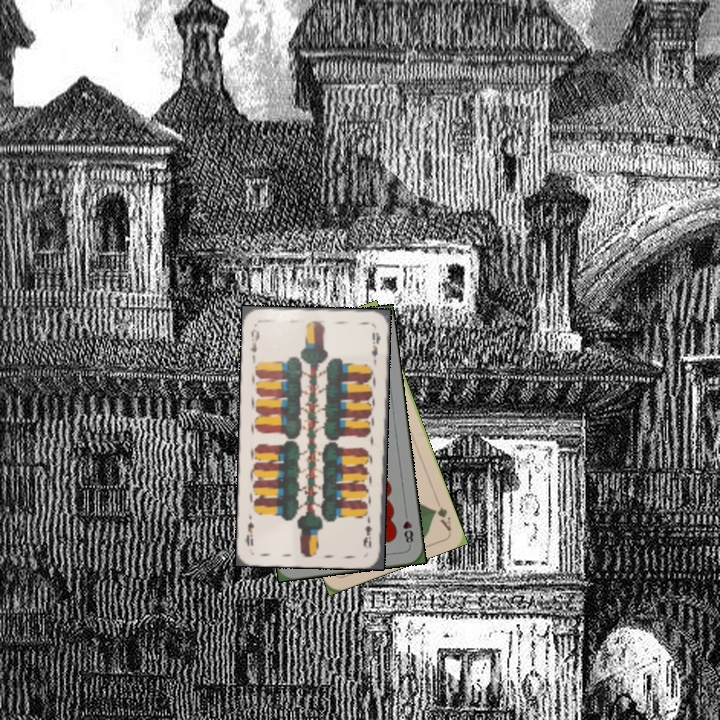E9: (360, 512, 374, 550), (246, 325, 262, 355)
GA: (429, 494, 454, 533)
H8: (399, 508, 416, 548)
